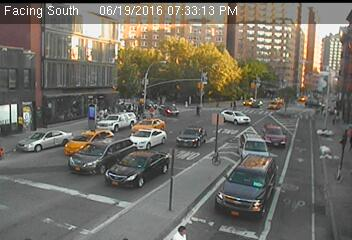neg: (77, 99, 102, 133), (8, 112, 31, 142)
pos: (191, 101, 205, 120)
